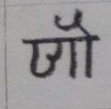au_matra: (60, 12, 101, 75)
